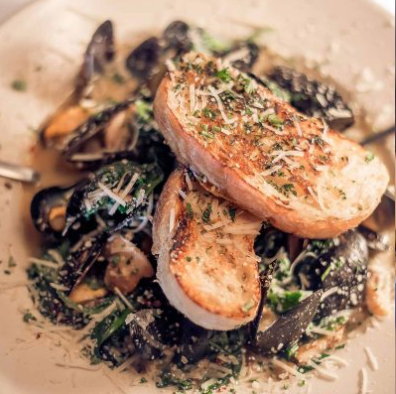soup: (149, 39, 391, 239)
